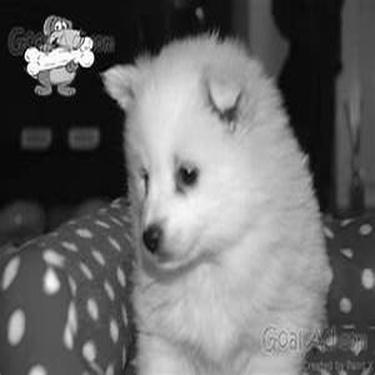dog: (85, 33, 337, 369)
